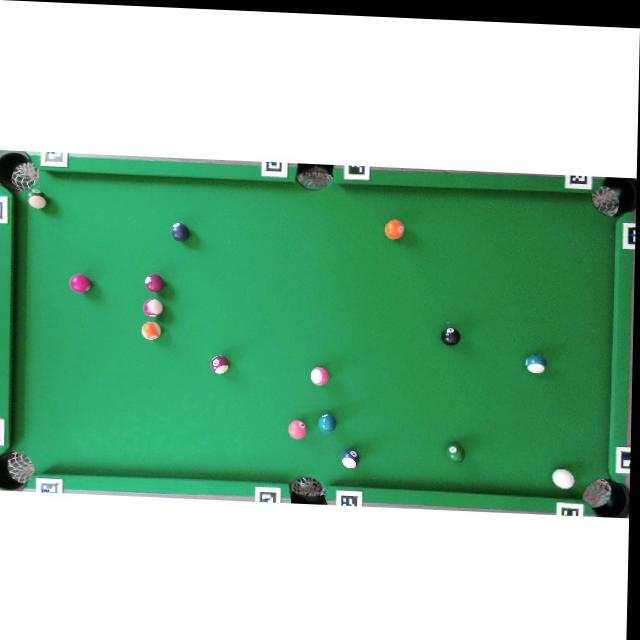cue ball: (551, 468, 576, 490)
other: (525, 354, 547, 375), (26, 189, 47, 210), (209, 355, 230, 375), (385, 219, 405, 240), (445, 443, 465, 464), (69, 274, 91, 293), (170, 222, 190, 242), (141, 321, 161, 341), (144, 298, 164, 318), (144, 274, 165, 293), (341, 449, 360, 469), (318, 413, 337, 433), (310, 366, 329, 386), (289, 419, 307, 440), (442, 327, 460, 346)
